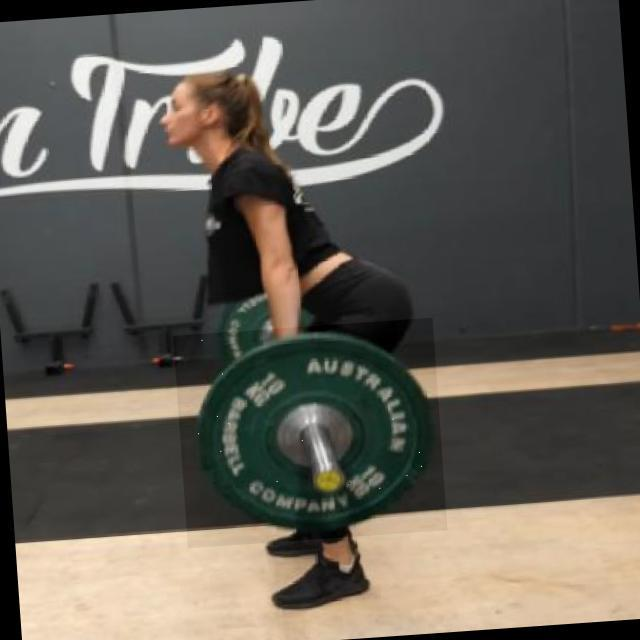barbell: (175, 318, 449, 549)
